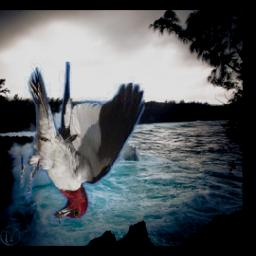Woodpecker: (20, 62, 145, 224)
